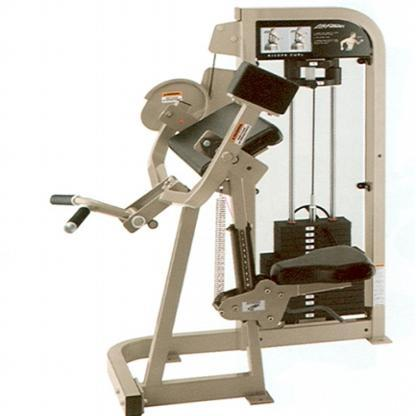arm curl machine: (50, 6, 392, 416)
